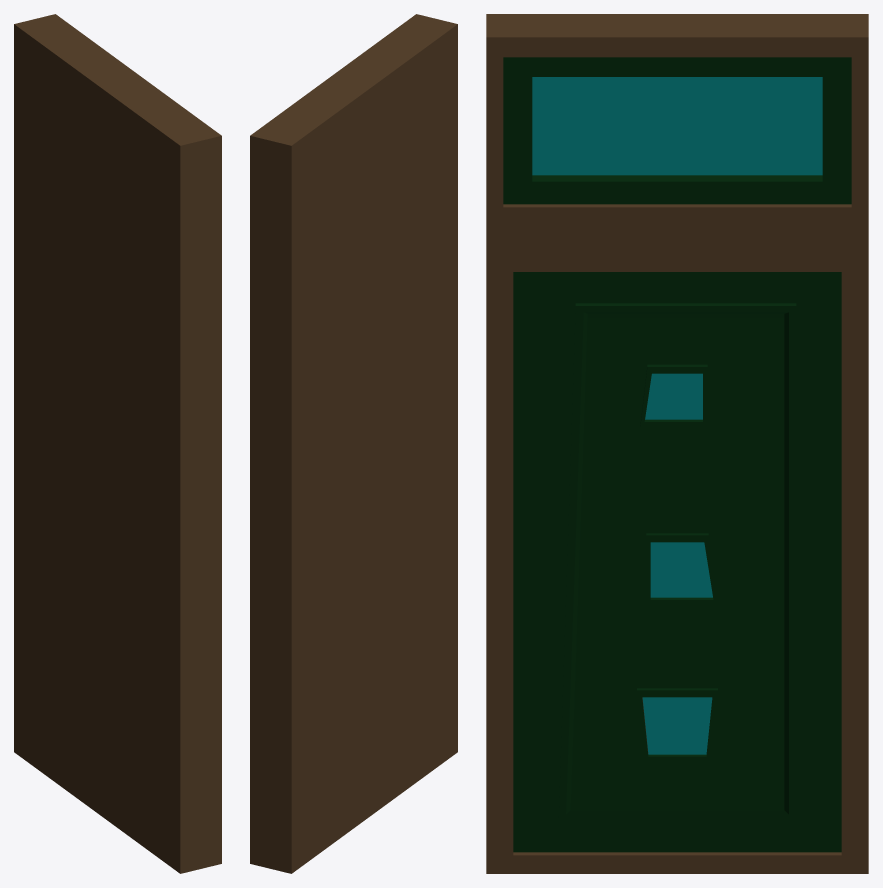
The model's file is Door14.fbx.
3 views of the same model, side by side, from view 1: azimuth 30°, elevation 25°; view 2: azimuth 150°, elevation 25°; view 3: azimuth 270°, elevation 25° (orthographic). The views are drawn at different scales.
Parts seen in each view (by area): view 1: Cube.043; view 2: Cube.043; view 3: Cube.043.
Boxes of the visible parts, x1,y1,x2,y2 form: Cube.043: (14, 14, 221, 873); Cube.043: (250, 14, 457, 873); Cube.043: (486, 14, 868, 873).
Bounding box in the file's own units: 16.34 × 258 × 107.
